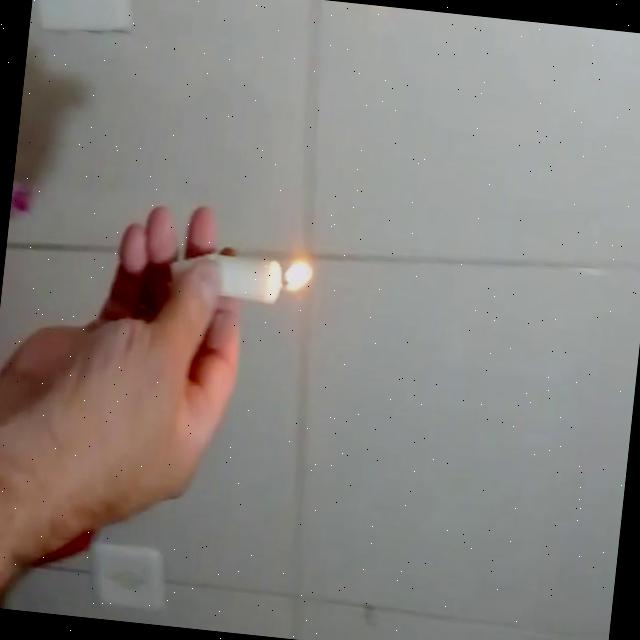fire: (278, 249, 318, 300)
